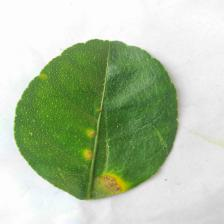canker: (29, 63, 141, 193)
